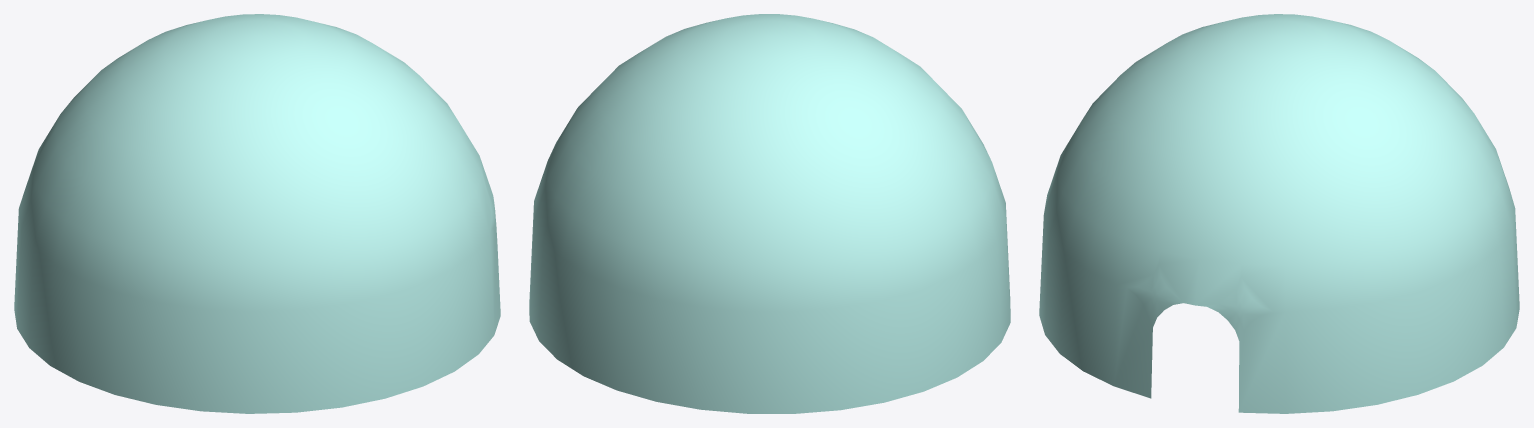
3 renders of one model, left to right at view 1: azimuth 30°, elevation 25°; view 2: azimuth 150°, elevation 25°; view 3: azimuth 270°, elevation 25°, orthographic.
Parts seen in each view (by area): view 1: Sphere.003; view 2: Sphere.003; view 3: Sphere.003.
Part boxes in pixels (left/top/right/bottom): Sphere.003: left=14, top=14, right=500, bottom=413; Sphere.003: left=529, top=14, right=1010, bottom=413; Sphere.003: left=1039, top=14, right=1519, bottom=413.
Bounding box in the file's own units: 6.46 × 4.04 × 6.4.
